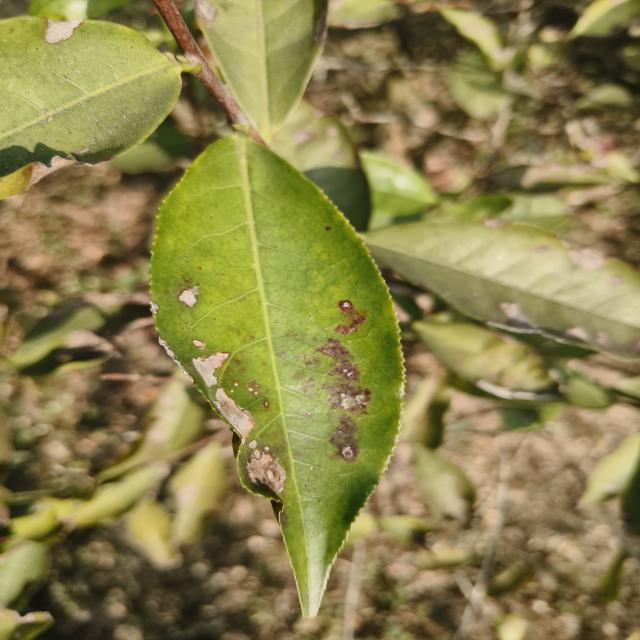Leaf: (151, 135, 403, 616), (362, 217, 640, 360), (0, 16, 183, 177), (194, 0, 328, 146), (272, 100, 371, 231), (413, 321, 554, 394), (360, 150, 437, 230), (168, 441, 225, 545), (411, 442, 476, 523), (570, 0, 640, 38)
